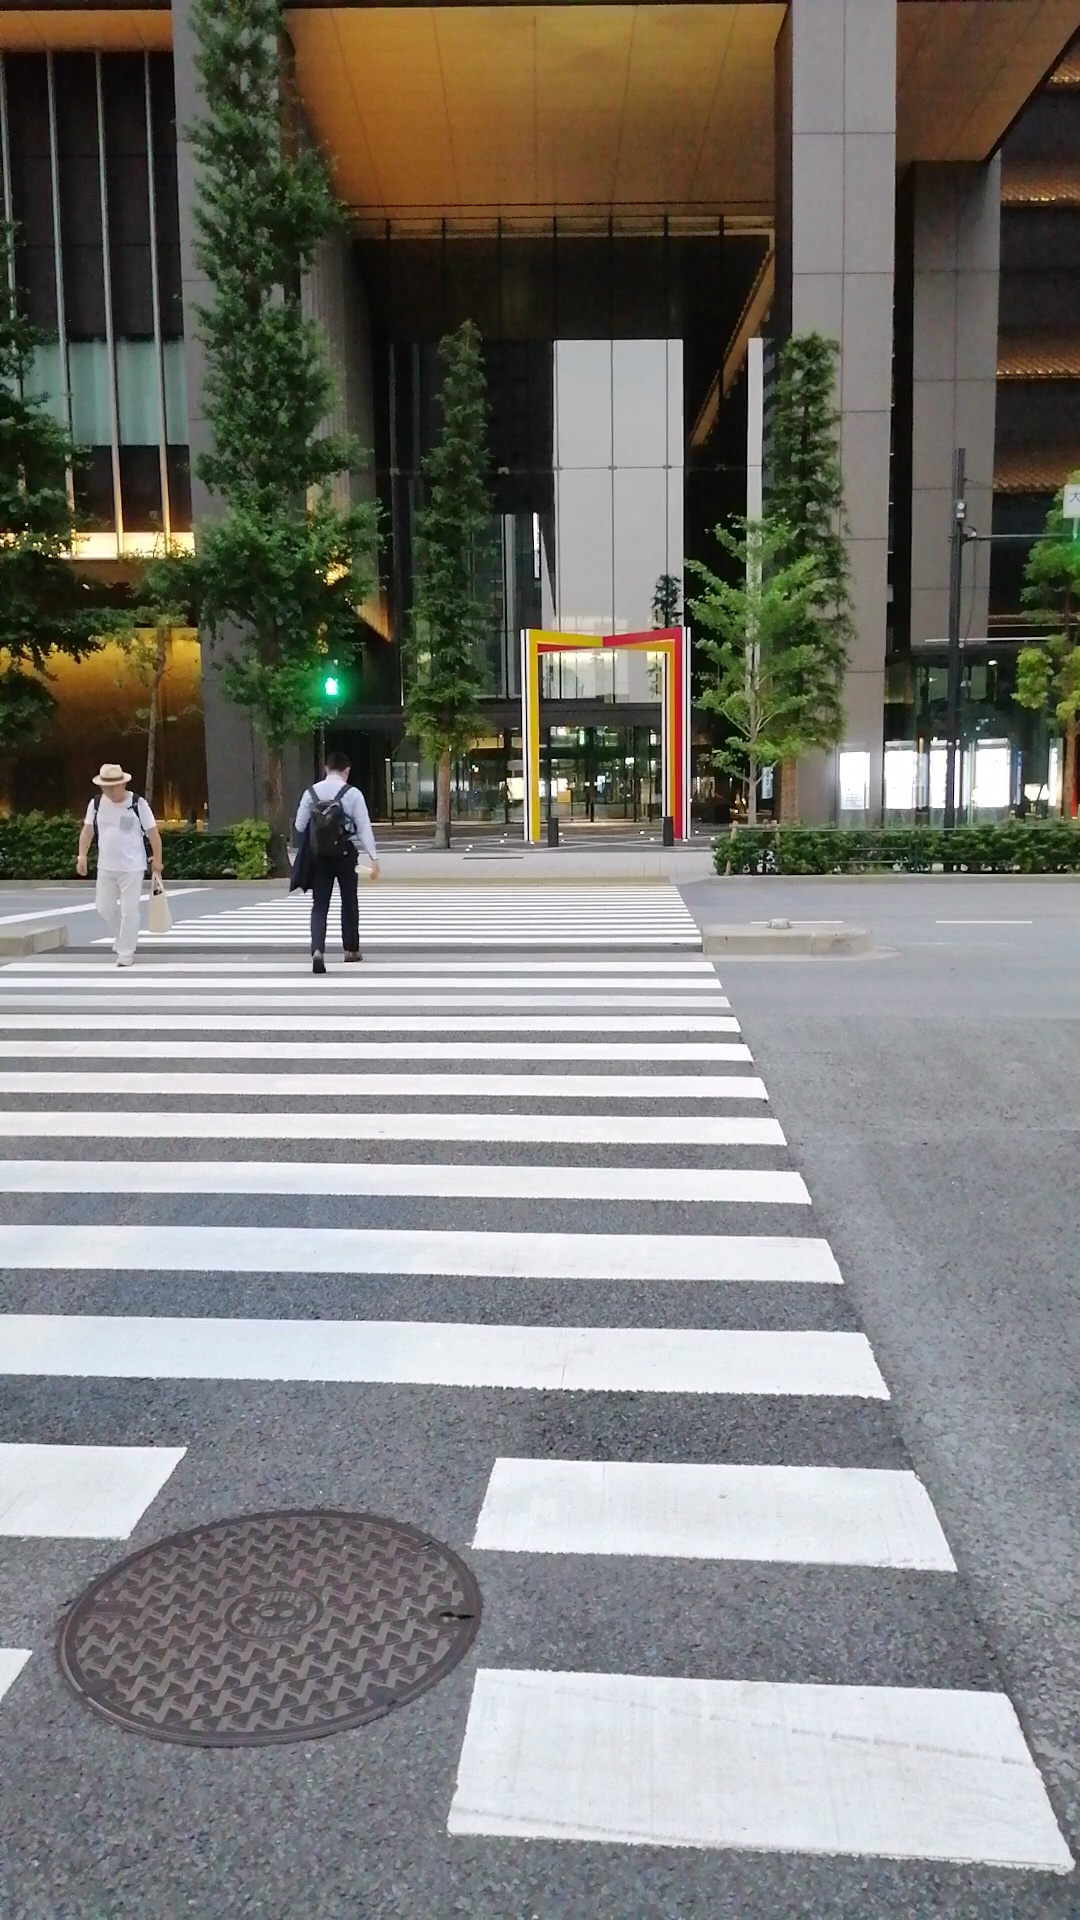green: (316, 653, 347, 702)
